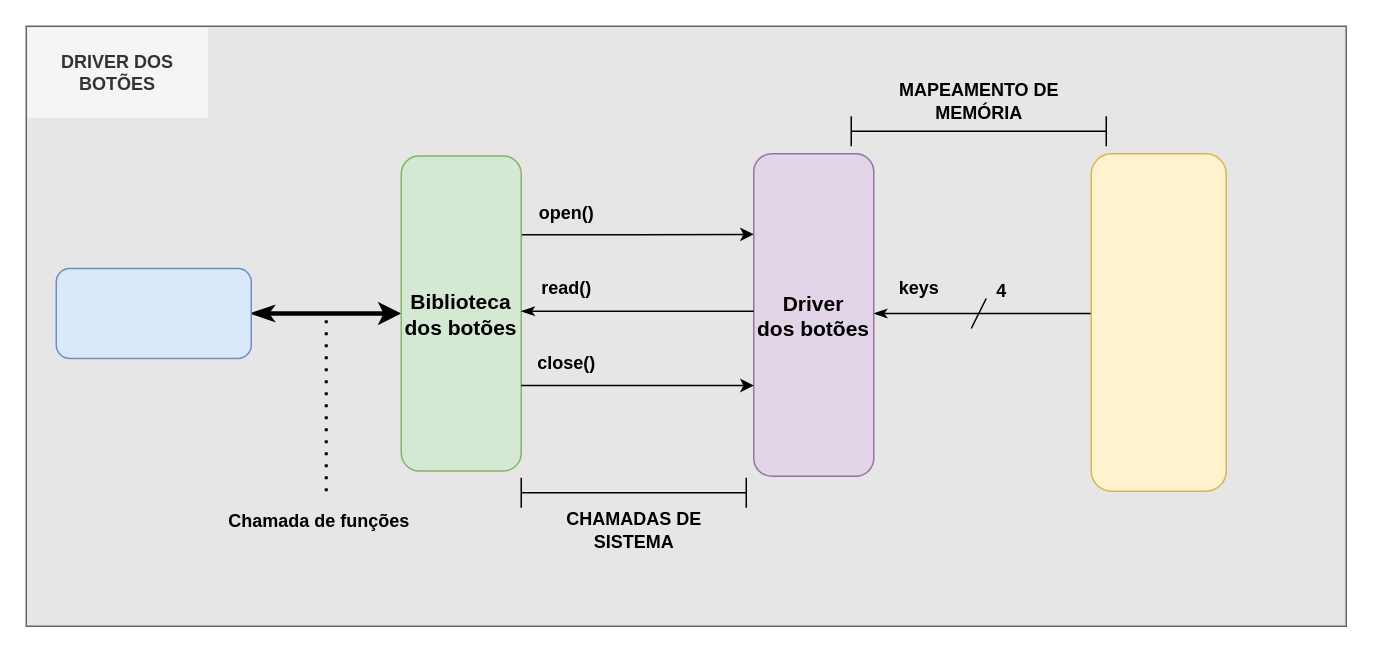
This 1373x653 diagram has some shape labels left out. Here are the shapes that lost their labels. From the top down, the centre of each, then its label:
At point 153,312: "Aplicação de usuário".
At point 1158,321: "Botões".
